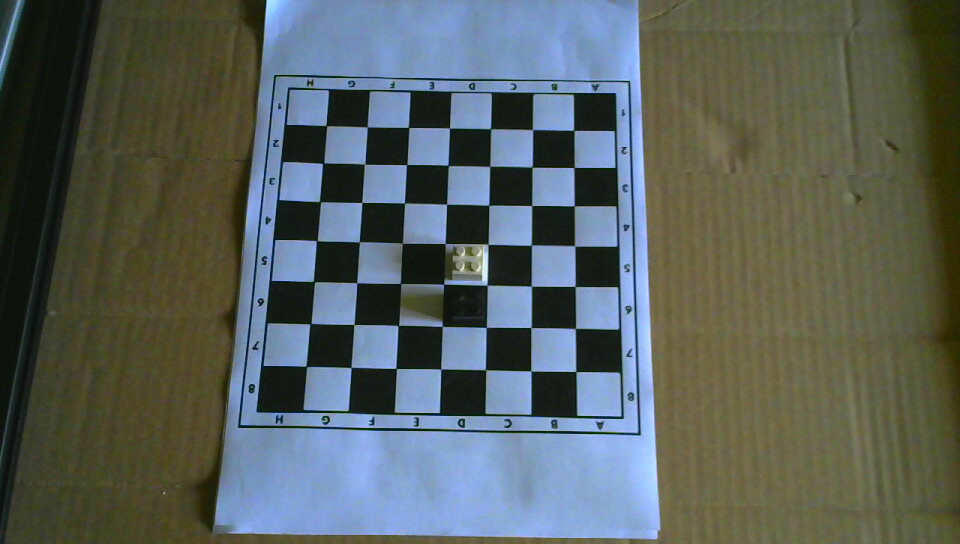bp: (450, 285, 487, 322)
wp: (450, 243, 485, 281)
